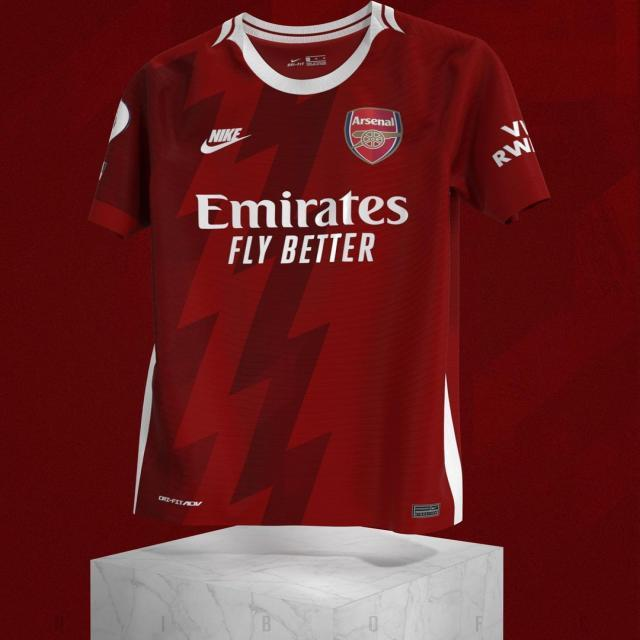Emirates: (197, 191, 410, 230)
Nike: (197, 127, 253, 155), (290, 58, 304, 64)
